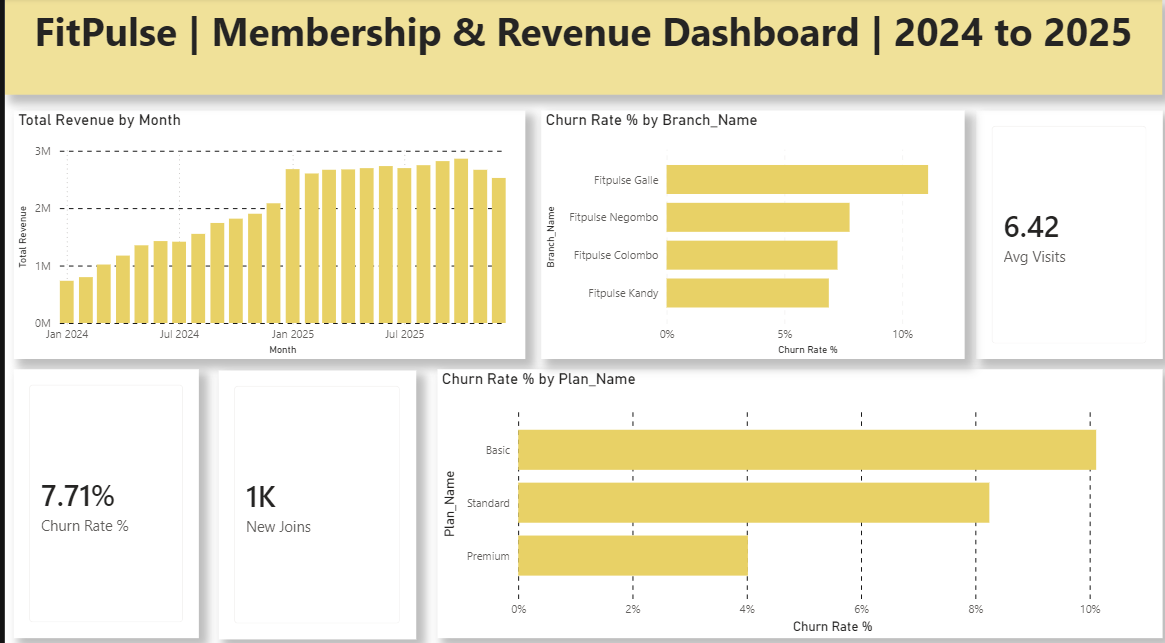

Layout of this report page (visuals, bound fields, positions):
{"tool":"powerbi","page":{"name":"Page 1","canvas":[1280,720],"ordinal":0},"visuals":[{"type":"clusteredColumnChart","fields":{"Y":["fact_membership_monthly.Total Revenue"],"Category":["fact_membership_monthly.Month"]},"box":[9.6,123.5,561.2,273.1],"z":0},{"type":"textbox","box":[895,21,385,273],"z":1000},{"type":"cardVisual","fields":{"Data":["fact_membership_monthly.Avg Visits"]},"box":[1066.2,123.5,204.5,273.1],"z":2000},{"type":"cardVisual","fields":{"Data":["fact_membership_monthly.Churn Rate %"]},"box":[9.6,407.5,203.1,295],"z":3000},{"type":"cardVisual","fields":{"Data":["fact_membership_monthly.New Joins"]},"box":[234.6,408.9,216.8,295],"z":4000},{"type":"textbox","box":[0,1.9,1270.3,105],"z":5000},{"type":"clusteredBarChart","fields":{"Category":["dim_plan.Plan_Name"],"Y":["fact_membership_monthly.Churn Rate %"]},"box":[474.8,407.5,795.9,295],"z":6000},{"type":"clusteredBarChart","fields":{"Category":["dim_branch.Branch_Name"],"Y":["fact_membership_monthly.Churn Rate %"]},"box":[588.7,123.5,465.2,273.1],"z":7000}]}

Visuals, with their boxes in screenshot pixels (x1, y1, x2, y2), scaled from the page's 1280x720 canvas onto the 1165x643 screenshot:
clusteredColumnChart - fact_membership_monthly.Total Revenue x fact_membership_monthly.Month: <region>9, 110, 520, 354</region>
textbox: <region>815, 19, 1164, 263</region>
cardVisual - fact_membership_monthly.Avg Visits: <region>970, 110, 1157, 354</region>
cardVisual - fact_membership_monthly.Churn Rate %: <region>9, 364, 194, 627</region>
cardVisual - fact_membership_monthly.New Joins: <region>214, 365, 411, 629</region>
textbox: <region>0, 2, 1156, 95</region>
clusteredBarChart - dim_plan.Plan_Name x fact_membership_monthly.Churn Rate %: <region>432, 364, 1157, 627</region>
clusteredBarChart - dim_branch.Branch_Name x fact_membership_monthly.Churn Rate %: <region>536, 110, 959, 354</region>
